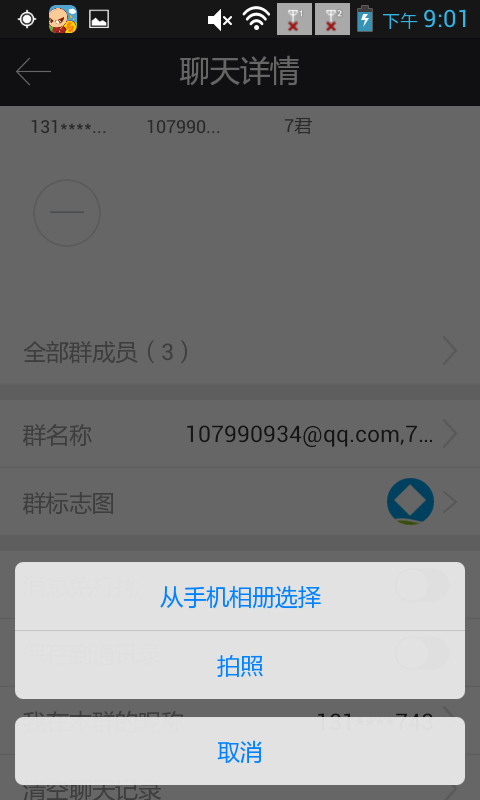alert: (10, 549, 480, 794)
button: (12, 708, 470, 793)
